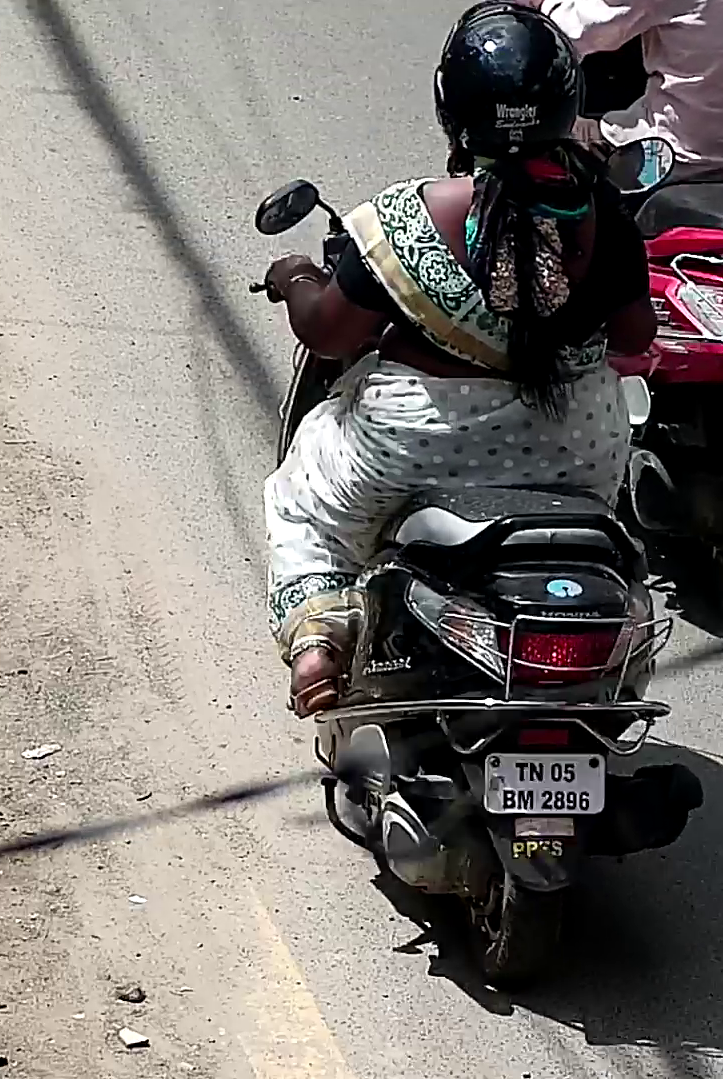0: (550, 762, 563, 782)
2: (541, 790, 553, 810)
5: (563, 762, 575, 783)
6: (578, 791, 590, 811)
8: (553, 790, 565, 810)
9: (566, 791, 577, 811)
B: (502, 788, 516, 810)
M: (516, 789, 535, 811)
N: (528, 761, 544, 782)
P16: (482, 752, 606, 817)
T: (515, 762, 528, 782)
